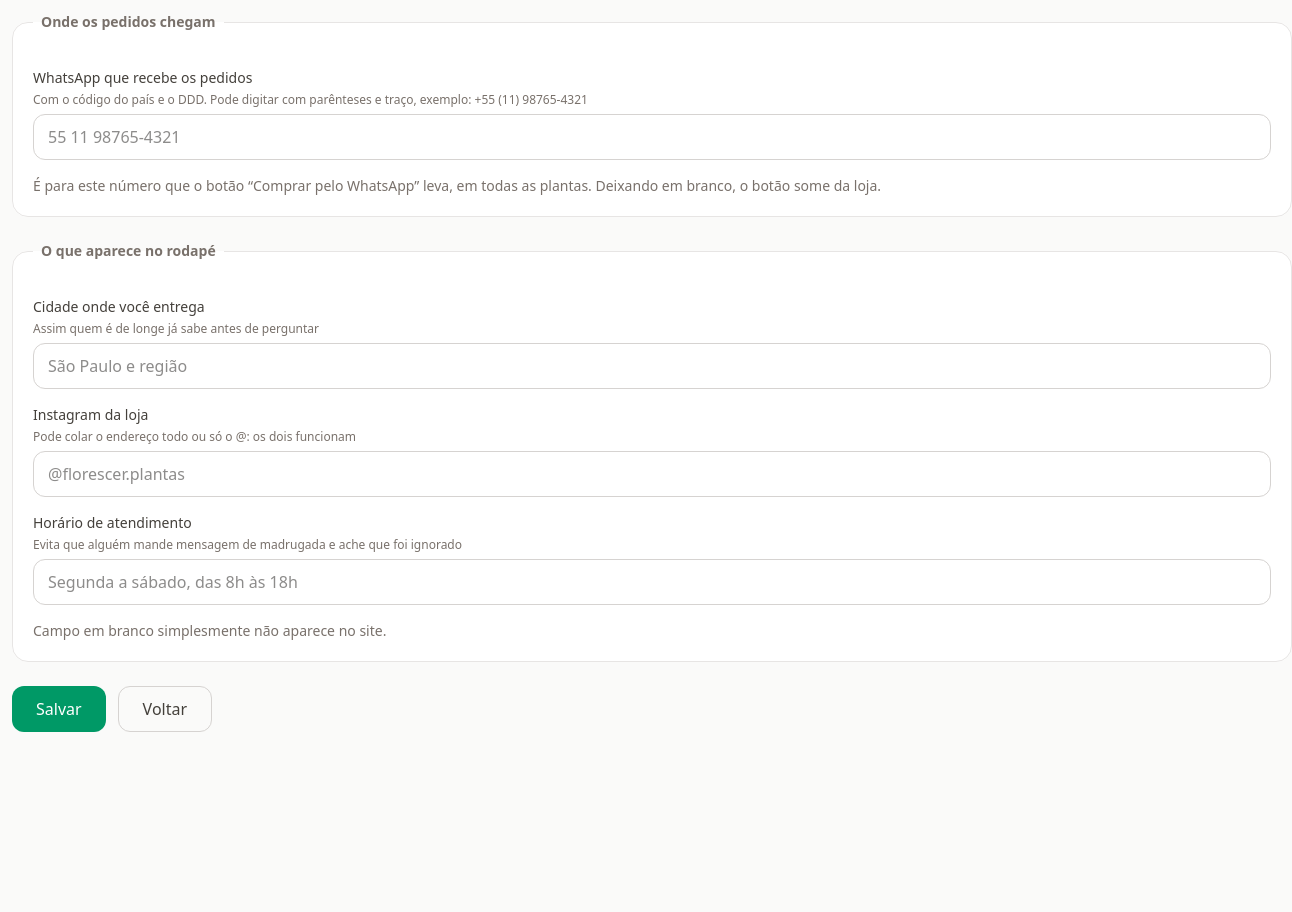
Test: salvar › confirma na tela que salvou
The image size is (1292, 912).
Step 1. Click the button "Salvar" → (59, 709), box x1=12 y1=686 x2=106 y2=732
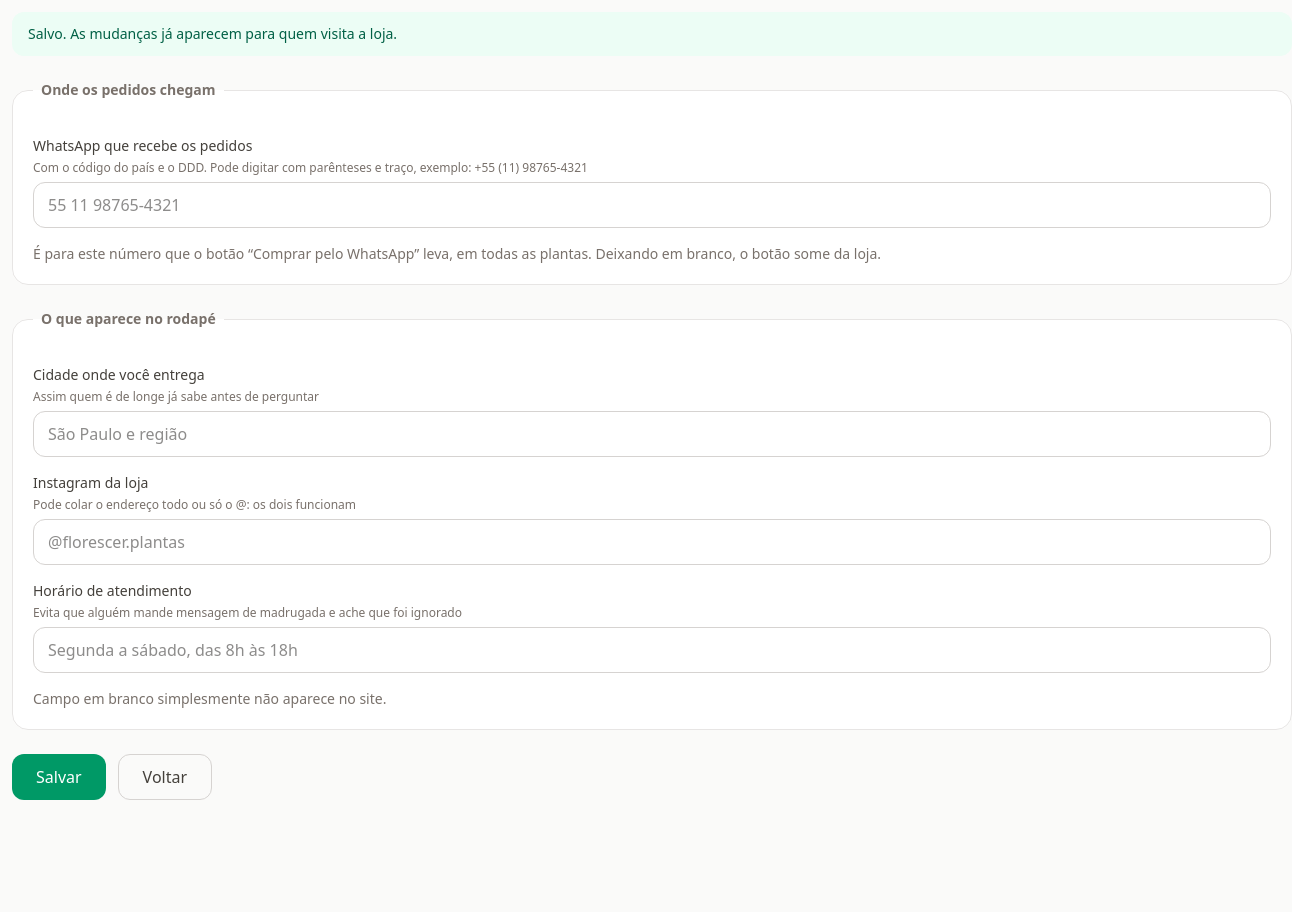
Check: the message shows "Salvo", box x1=28 y1=24 x2=397 y2=43
